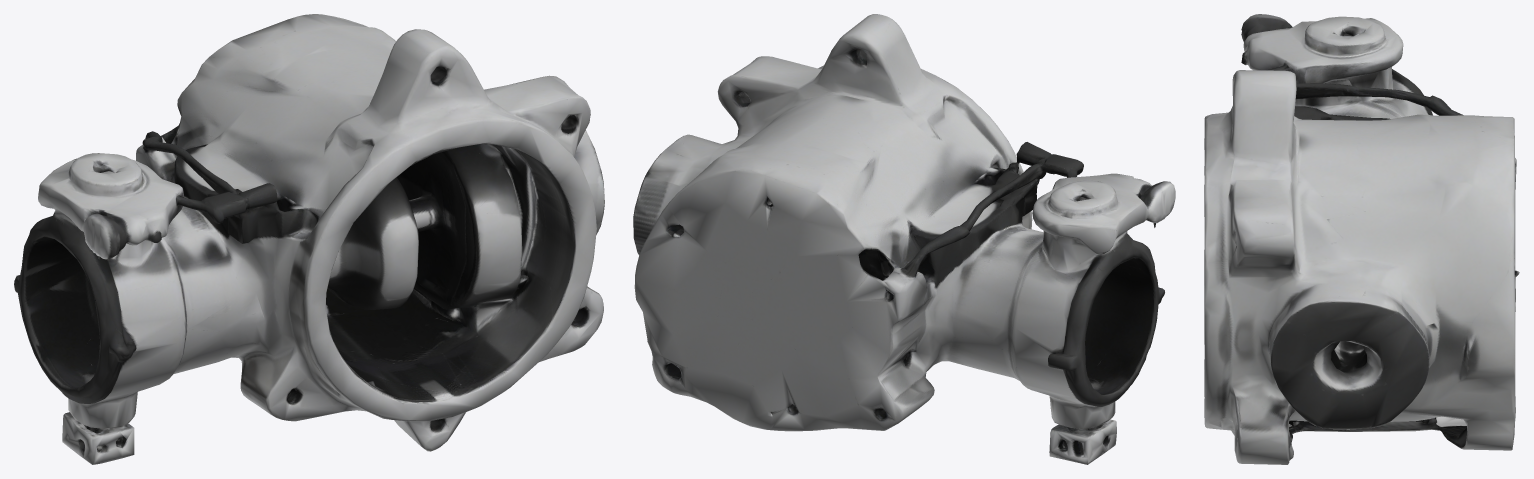
File: throttle-body.glb
The picture shows the model from 3 angles, left to right: view 1: azimuth 30°, elevation 25°; view 2: azimuth 150°, elevation 25°; view 3: azimuth 270°, elevation 25°; orthographic projection. The views are drawn at different scales.
Bounding box in the file's own units: 2 × 1.5 × 1.1.
Materials: 1 (1 with a texture image).
